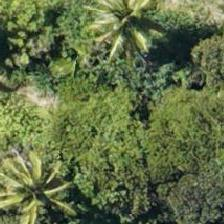coconut_tree: (0, 147, 74, 223), (73, 0, 163, 61)
